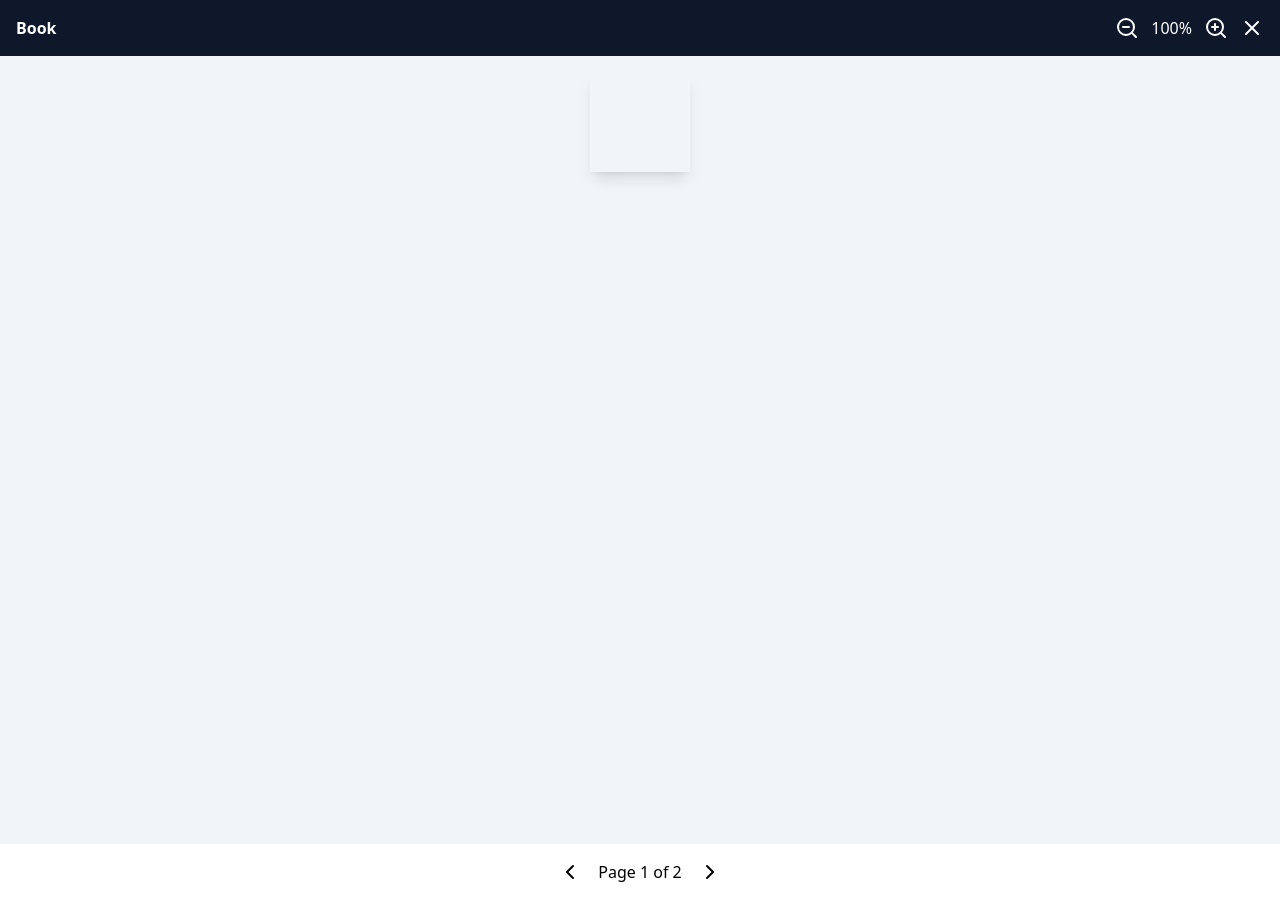
Test: shows an unauthorized-page error while keeping the reader usable
Click the button named "Next page": coordinates (710, 872) [698, 860, 722, 884]
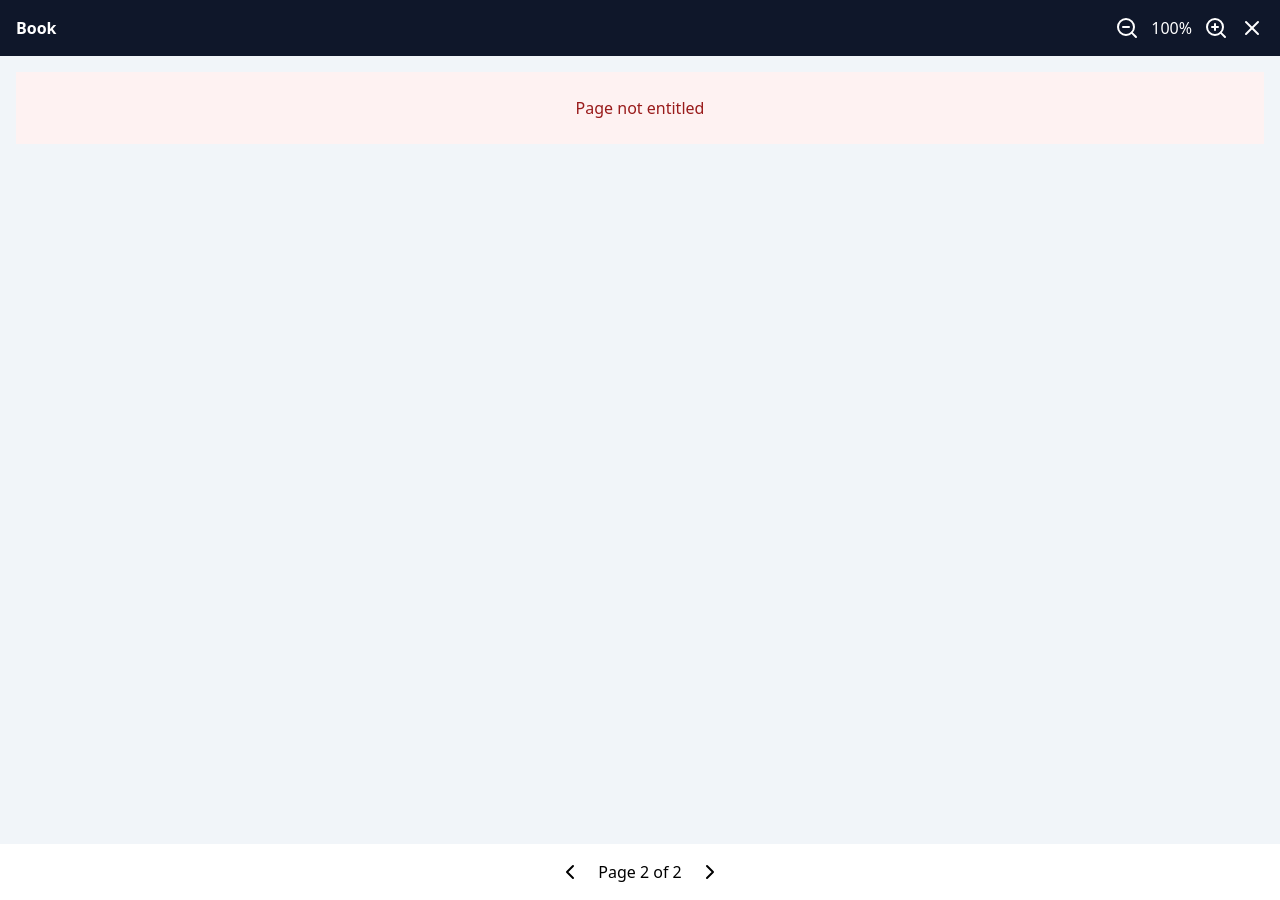
Check: the button named "Previous page" is enabled, box [558, 860, 582, 884]
Check: the text "Page not entitled" is shown, box [16, 72, 1264, 144]
